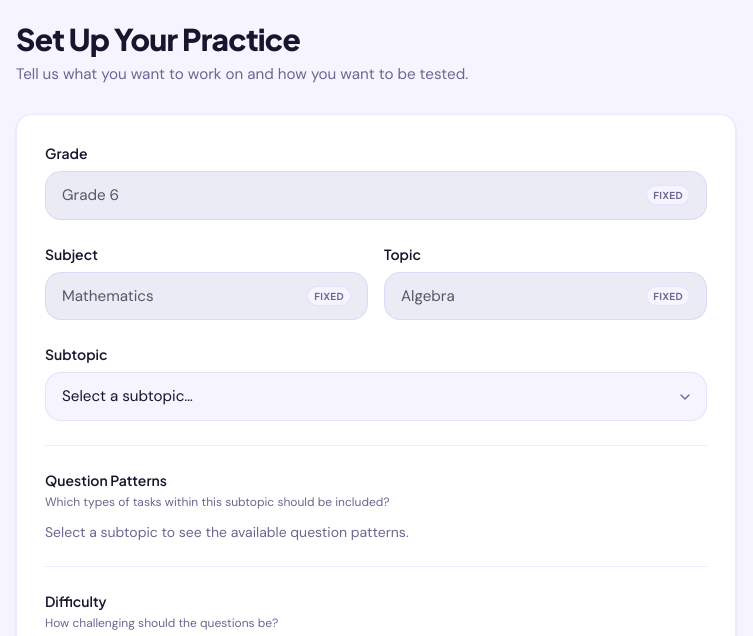
it: Setup form › selecting the 'use all patterns' toggle satisfies the pattern requirement
Step 1. Select "Simplify & Calculate" in the dropdown named "subtopic" → (376, 397), box [45, 372, 707, 421]
(page scrolled)
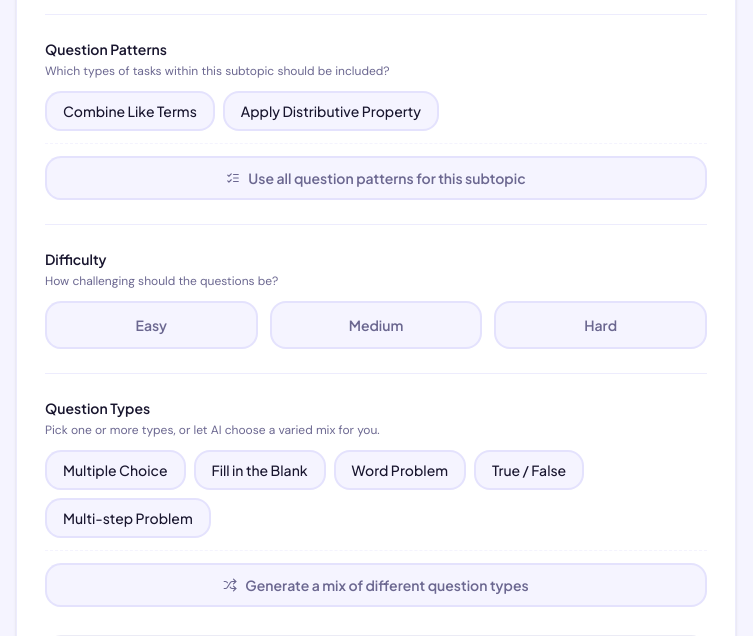
Step 2. Click the button "Easy" → (151, 325), box [45, 301, 258, 349]
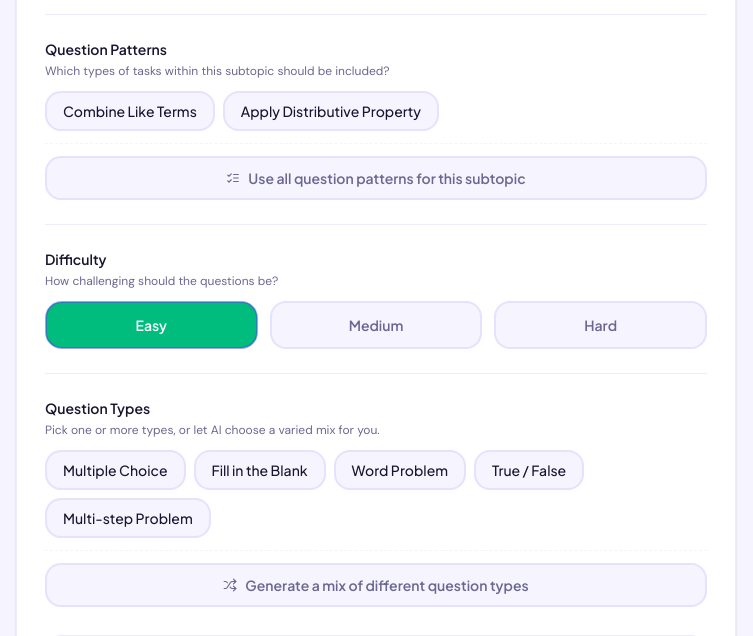
Step 3. Click the button "Multiple Choice" → (115, 470), box [45, 450, 186, 490]
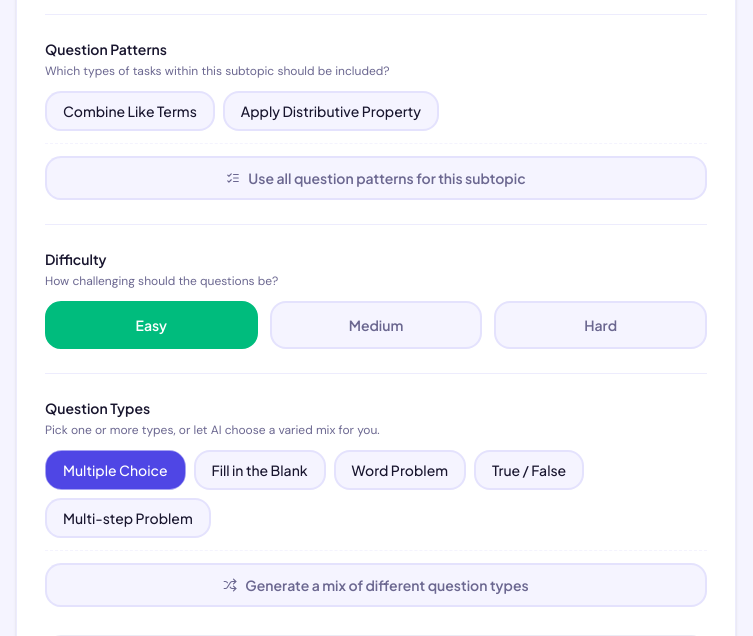
Step 4. Click the button "Use all question patterns for this subtopic" → (376, 178), box [45, 156, 707, 200]
(page scrolled)
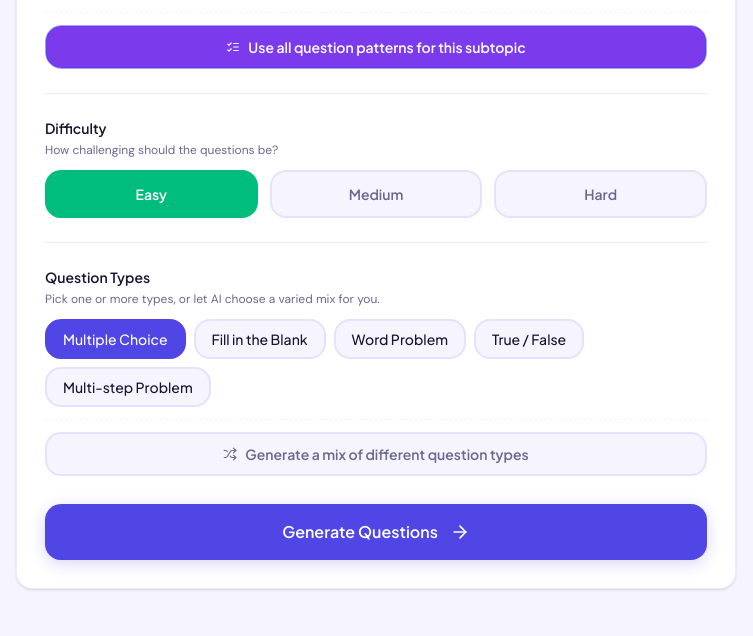
Result: the button "Generate Questions" is enabled at [45, 504, 707, 560]
